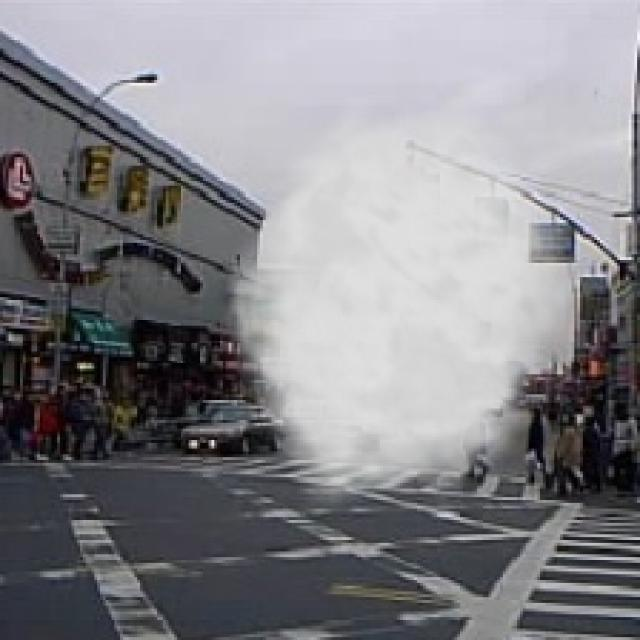smoke: (214, 92, 589, 517)
